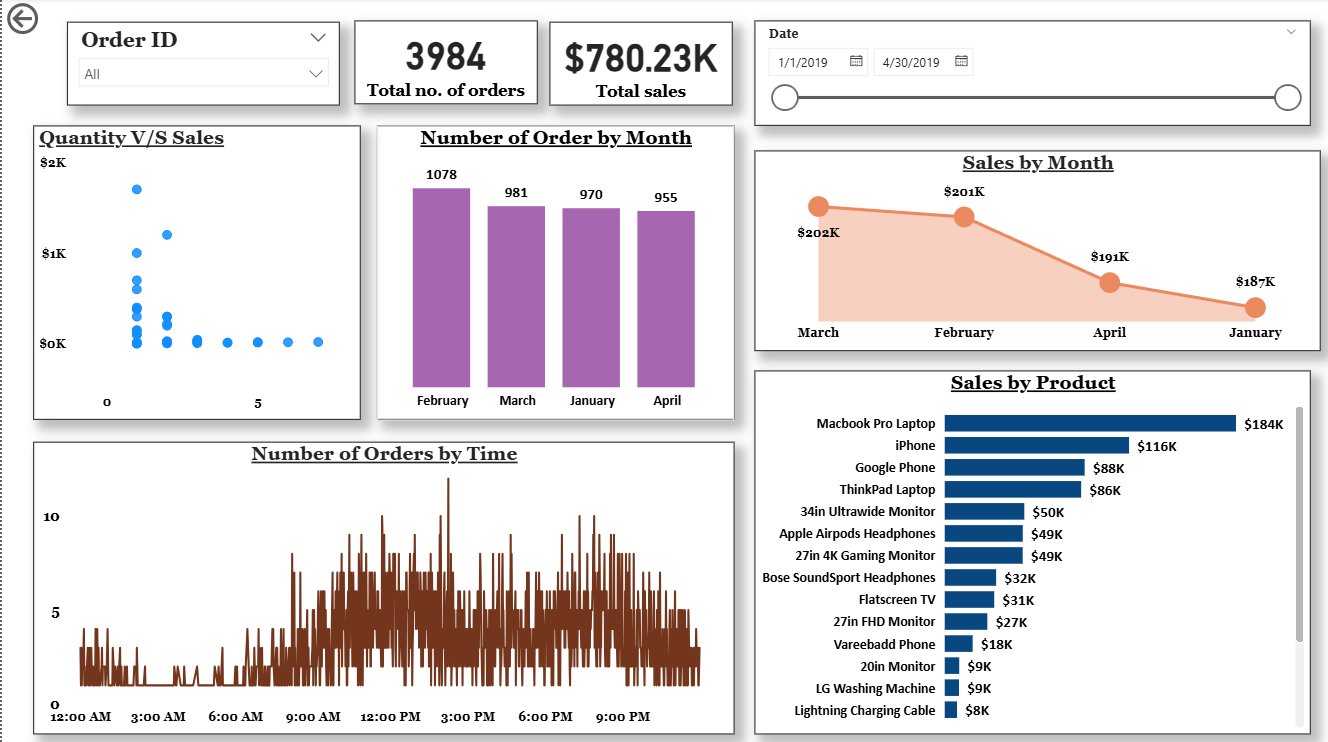

Layout of this report page (visuals, bound fields, positions):
{"tool":"powerbi","page":{"name":"Requirements","canvas":[1280,720],"ordinal":0},"visuals":[{"type":"slicer","fields":{"Values":["Combind_sales.Order ID"]},"box":[63.1,23.3,263.5,81],"z":0},{"type":"card","fields":{"Values":["Count(Combind_sales.Order ID)"]},"box":[340.3,22,177,81],"z":1000},{"type":"card","fields":{"Values":["Sum(Combind_sales.Sales)"]},"box":[528.3,23.3,177,81],"z":2000},{"type":"barChart","title":"Sales by Product","fields":{"Category":["Combind_sales.Product"],"Y":["Sum(Combind_sales.Sales)"]},"box":[725.9,359.5,536.5,351.3],"z":3000},{"type":"areaChart","title":"Sales by Month","fields":{"Category":["Combind_sales.Month Name"],"Y":["Sum(Combind_sales.Sales)"]},"box":[725.9,146.8,546.1,193.5],"z":4000},{"type":"columnChart","title":"Number of Order by Month","fields":{"Y":["Count(Combind_sales.Order ID)"],"Category":["Combind_sales.Month Name"]},"box":[362.3,123.5,344.4,284],"z":5000},{"type":"lineChart","title":"Number of Orders by Time","fields":{"Y":["Count(Combind_sales.Order ID)"],"Category":["Combind_sales.Time"]},"box":[30.2,428.1,676.5,282.7],"z":6000},{"type":"scatterChart","title":"Quantity V/S Sales","fields":{"Y":["Combind_sales.Sales"],"X":["Combind_sales.Quantity Ordered"]},"box":[30.2,123.5,315.6,284],"z":7000},{"type":"actionButton","box":[0,0,49.4,39.8],"z":8000},{"type":"slicer","fields":{"Values":["Combind_sales.Date"]},"box":[725.9,22,536.5,101.5],"z":8001}]}

Visuals, with their boxes in screenshot pixels (x1, y1, x2, y2), scaled from the page's 1280x720 canvas onto the 1328x742 screenshot:
slicer - Combind_sales.Order ID: BBox(65, 24, 339, 107)
card - Count(Combind_sales.Order ID): BBox(353, 23, 537, 106)
card - Sum(Combind_sales.Sales): BBox(548, 24, 732, 107)
"Sales by Product" barChart: BBox(753, 370, 1310, 733)
"Sales by Month" areaChart: BBox(753, 151, 1320, 351)
"Number of Order by Month" columnChart: BBox(376, 127, 733, 420)
"Number of Orders by Time" lineChart: BBox(31, 441, 733, 733)
"Quantity V/S Sales" scatterChart: BBox(31, 127, 359, 420)
actionButton: BBox(0, 0, 51, 41)
slicer - Combind_sales.Date: BBox(753, 23, 1310, 127)
